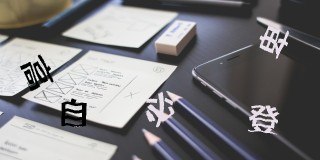卑: (258, 23, 290, 59)
必: (145, 92, 175, 128)
登: (247, 104, 280, 133)
自: (61, 99, 87, 128)
高: (20, 55, 54, 87)
